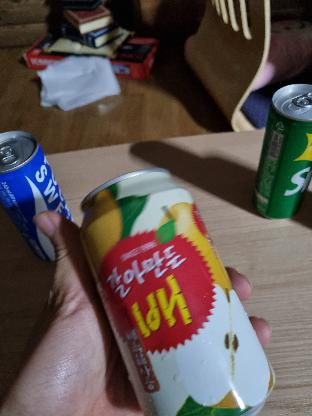Can: (77, 169, 275, 416)
